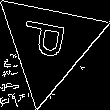P_E: (22, 21, 76, 67)
